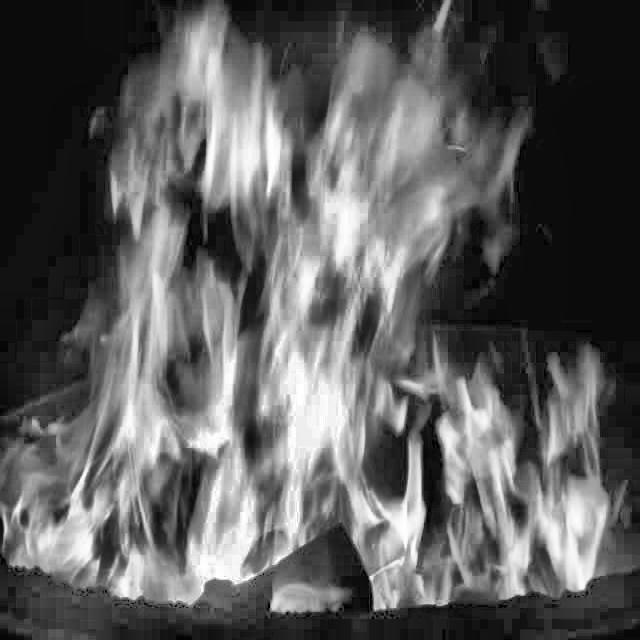fire: (3, 0, 612, 619)
